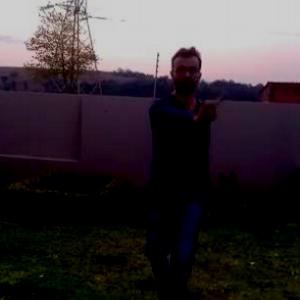takeoff-hand: (194, 88, 227, 122)
